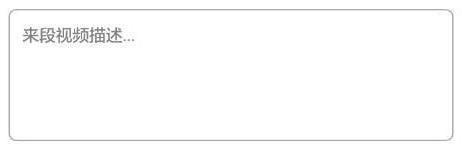EditText: (1, 1, 461, 151)
